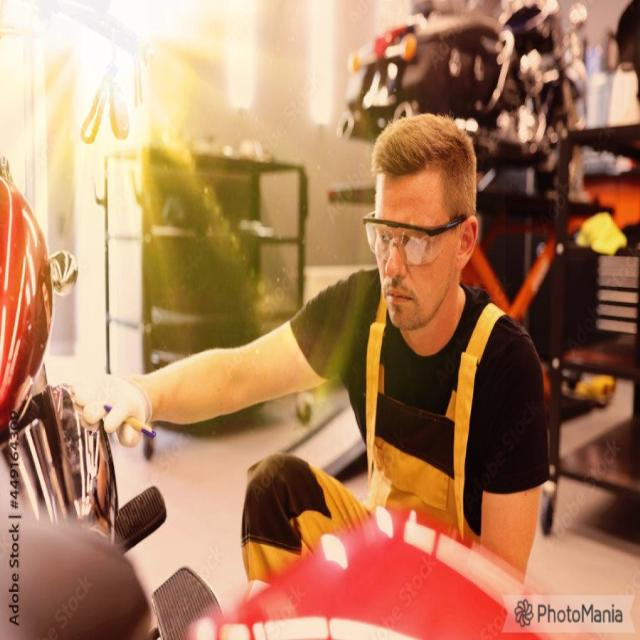Goggles: (361, 210, 467, 266)
